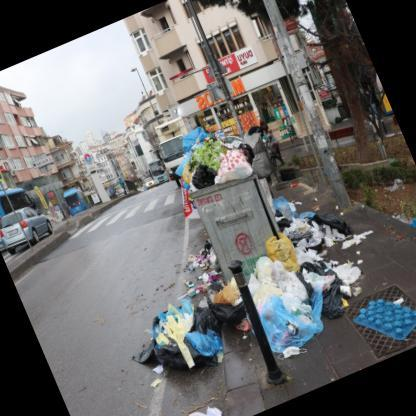Garbage: (116, 274, 260, 396), (256, 196, 374, 328), (240, 238, 351, 362), (162, 114, 258, 194), (347, 284, 415, 357), (178, 238, 222, 286), (173, 399, 230, 415)
